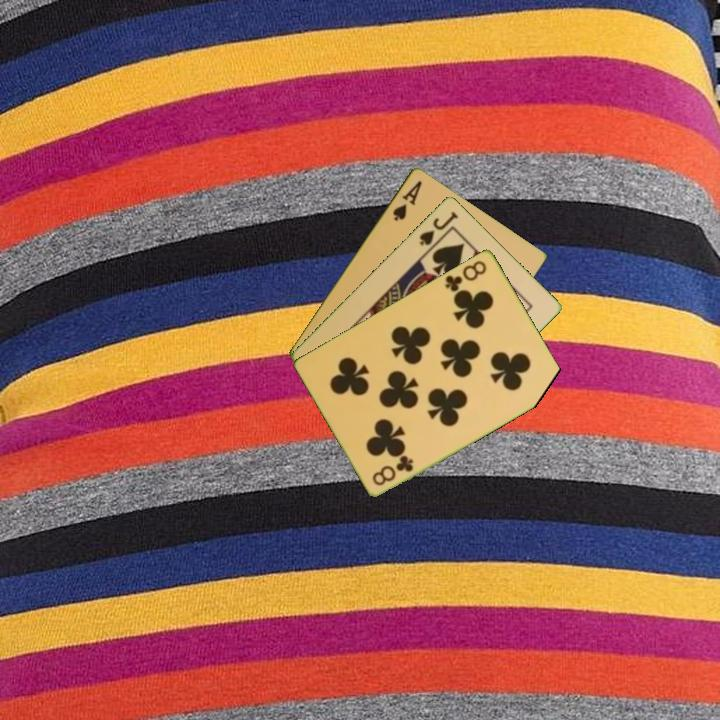8c: (441, 256, 490, 295), (369, 452, 416, 488)
As: (389, 177, 425, 224)
Js: (416, 208, 461, 248)
